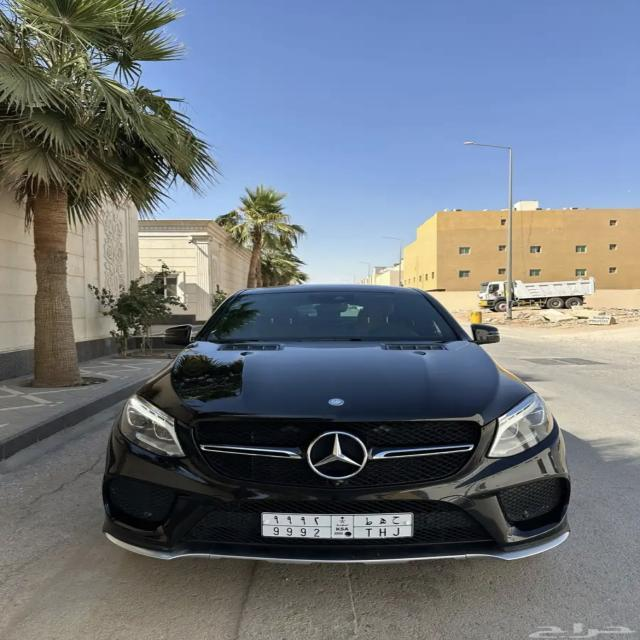license_plate: (260, 512, 416, 541)
